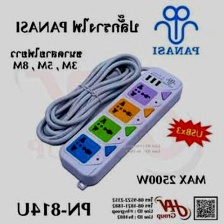three_eye_plug: (56, 63, 185, 188)
